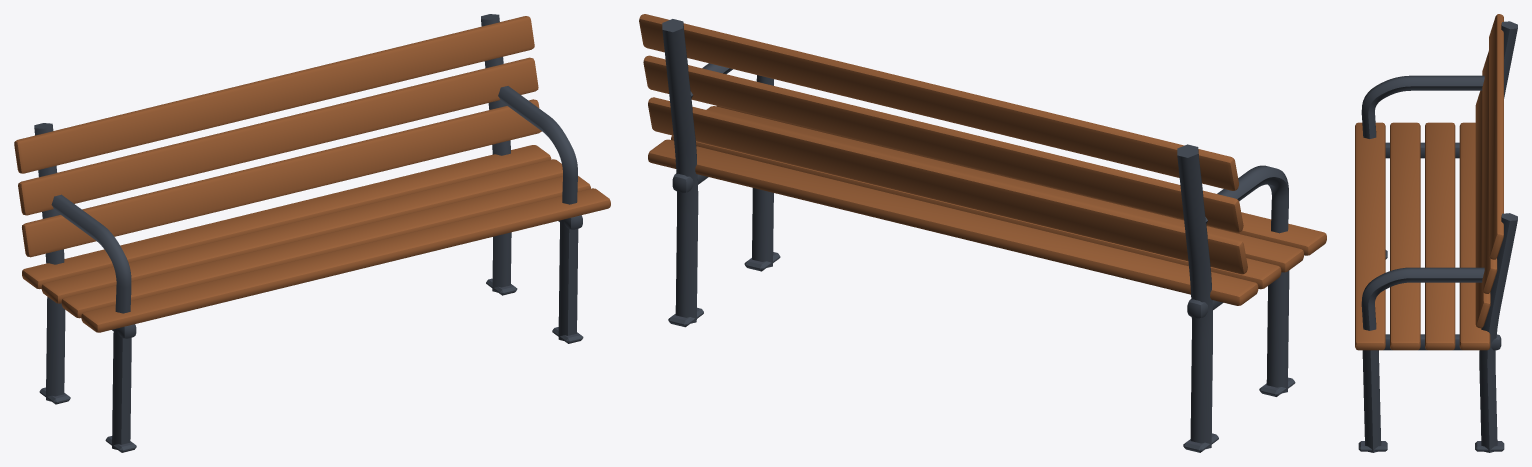
File: banco_praca_madeira.glb
3 renders of one model, left to right at view 1: azimuth 30°, elevation 25°; view 2: azimuth 150°, elevation 25°; view 3: azimuth 270°, elevation 25°, orthographic. The views are drawn at different scales.
Parts seen in each view (by area): view 1: banco_praca_madeira; view 2: banco_praca_madeira; view 3: banco_praca_madeira.
Part boxes in pixels (box(x1,y1,x2,y2)): banco_praca_madeira: box(14, 14, 610, 452); banco_praca_madeira: box(639, 14, 1326, 452); banco_praca_madeira: box(1355, 14, 1517, 452).
Bounding box in the file's own units: 1.8 × 0.8855 × 0.5598.
Materials: 1 (1 with a texture image).
